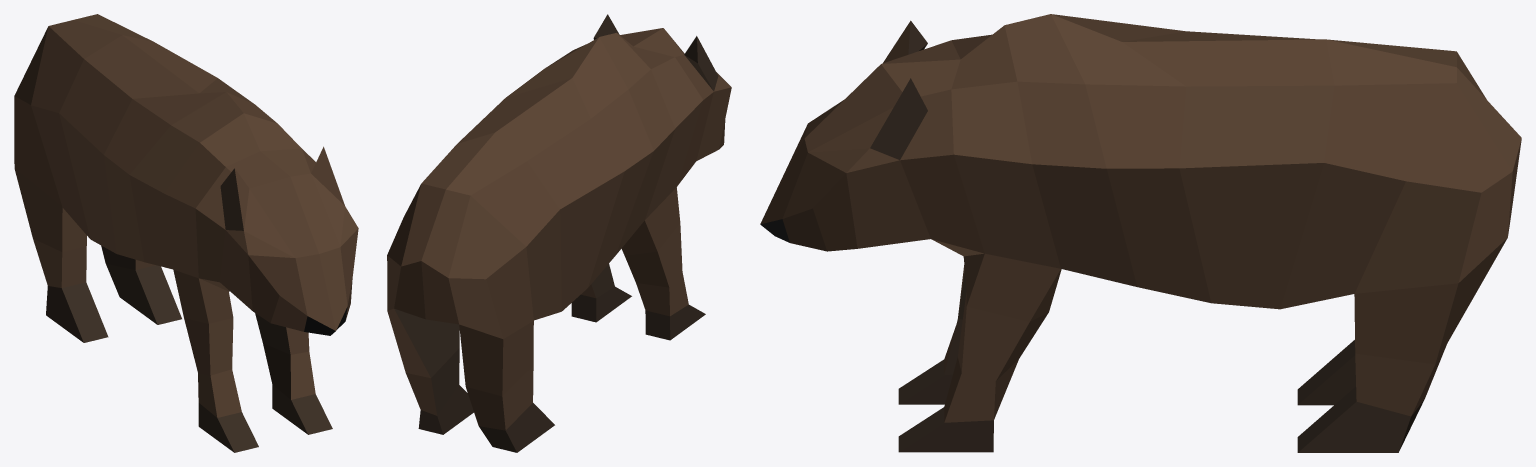
The model's file is Bearcoloranim.dae.
3 renders of one model, left to right at view 1: azimuth 30°, elevation 25°; view 2: azimuth 150°, elevation 25°; view 3: azimuth 270°, elevation 25°, orthographic. The views are drawn at different scales.
Parts seen in each view (by area): view 1: Plane; view 2: Plane; view 3: Plane.
Part boxes in pixels (x1,y1,x2,y2): Plane: (14, 14, 358, 452); Plane: (387, 14, 731, 452); Plane: (760, 14, 1521, 452).
Bounding box in the file's own units: 2.62 × 8.64 × 5.09.
